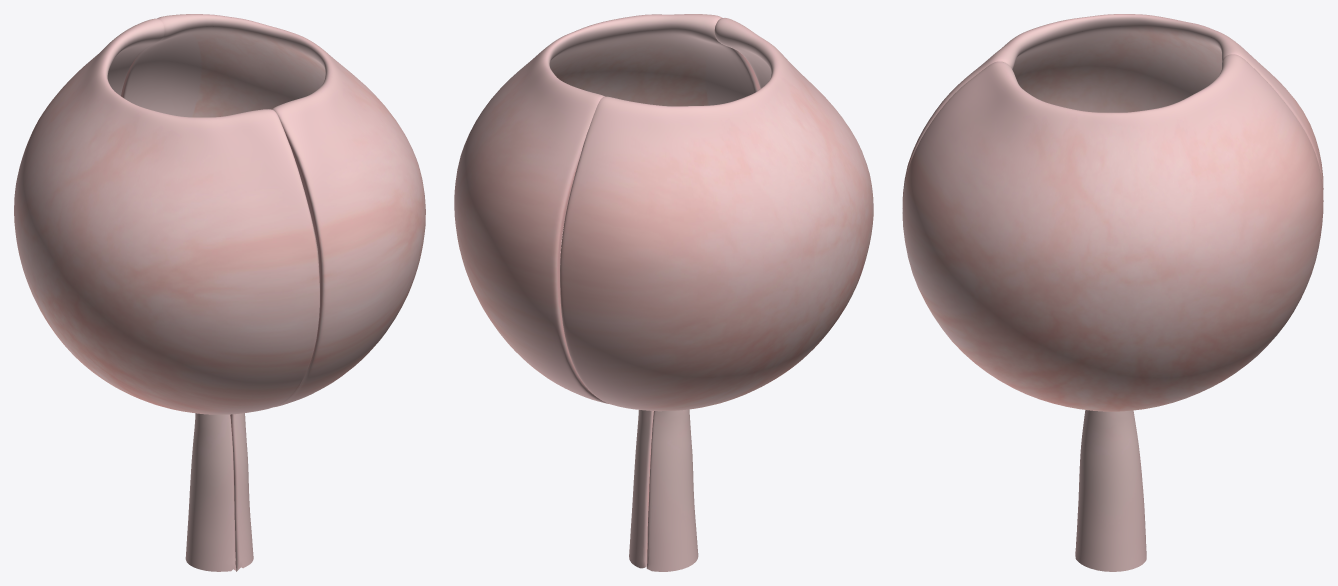
3 renders of one model, left to right at view 1: azimuth 30°, elevation 25°; view 2: azimuth 150°, elevation 25°; view 3: azimuth 270°, elevation 25°, orthographic.
Parts seen in each view (by area): view 1: e-外壳.002; view 2: e-外壳.002; view 3: e-外壳.002.
Part boxes in pixels (x1,y1,x2,y2): e-外壳.002: (14, 14, 425, 571); e-外壳.002: (454, 14, 873, 571); e-外壳.002: (902, 14, 1323, 571).
Bounding box in the file's own units: 0.607 × 0.8077 × 0.6101.
